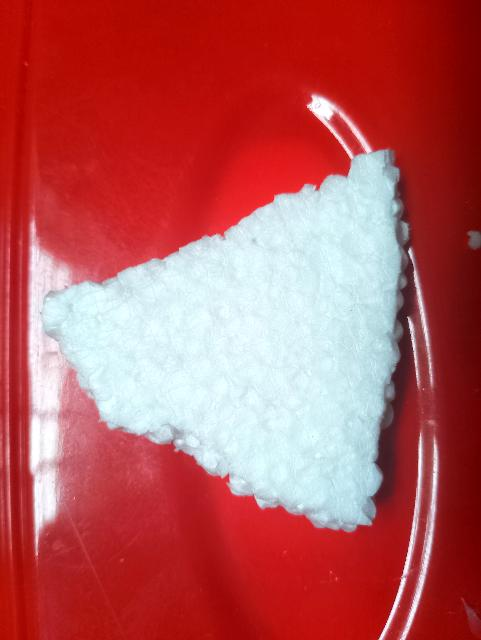cocksheet: (45, 128, 400, 522)
